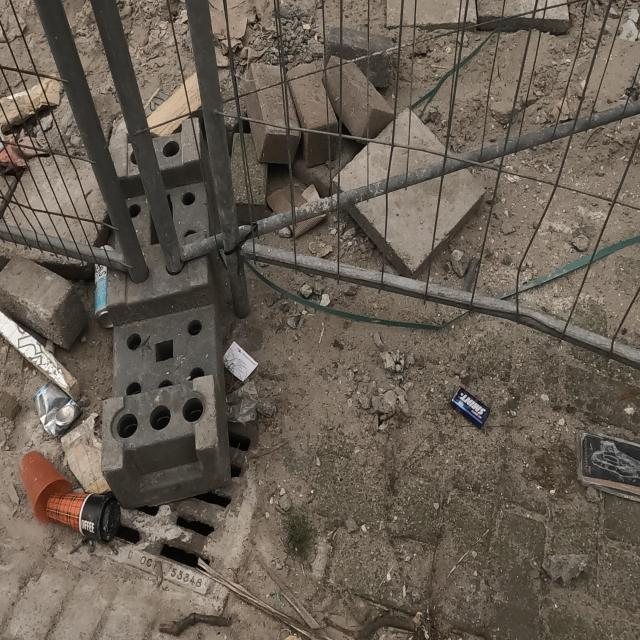Can-Metal: (32, 380, 82, 440), (94, 261, 114, 330)
Cup: (18, 449, 78, 524), (45, 490, 122, 540)
Paper: (223, 338, 259, 384)
Plastic: (450, 384, 490, 431)
